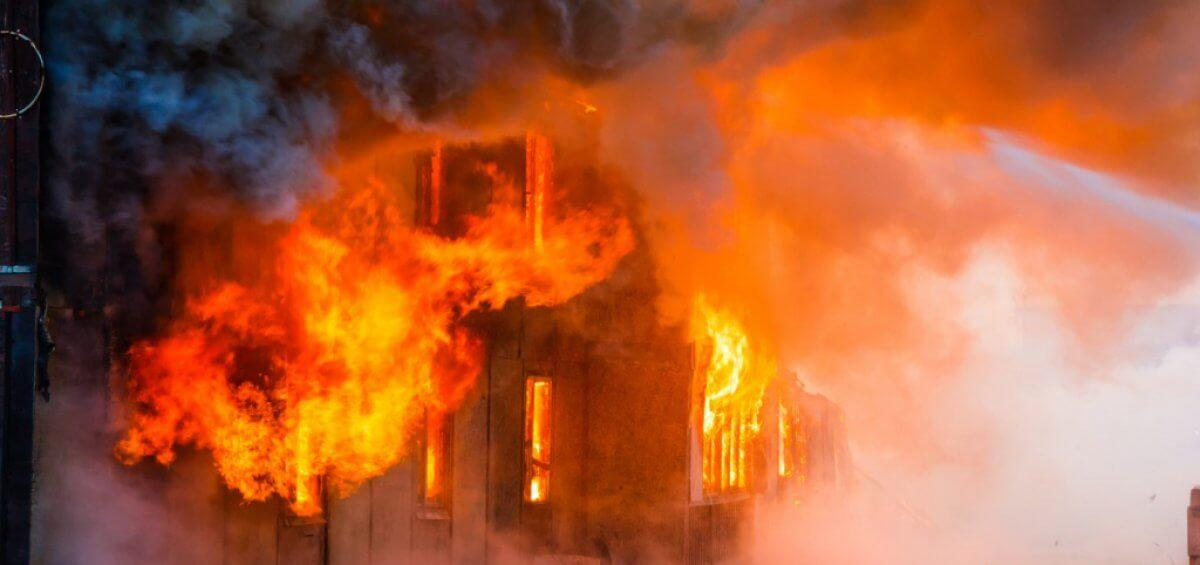Fire: (101, 136, 945, 506)
